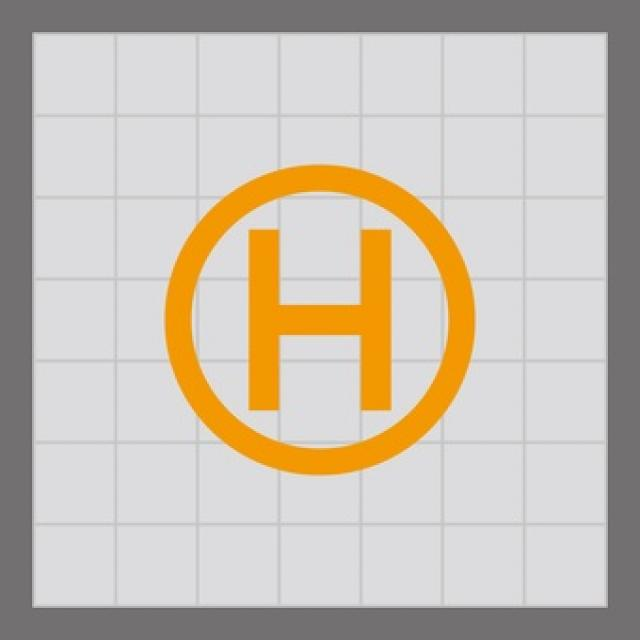helipad: (154, 152, 482, 476)
